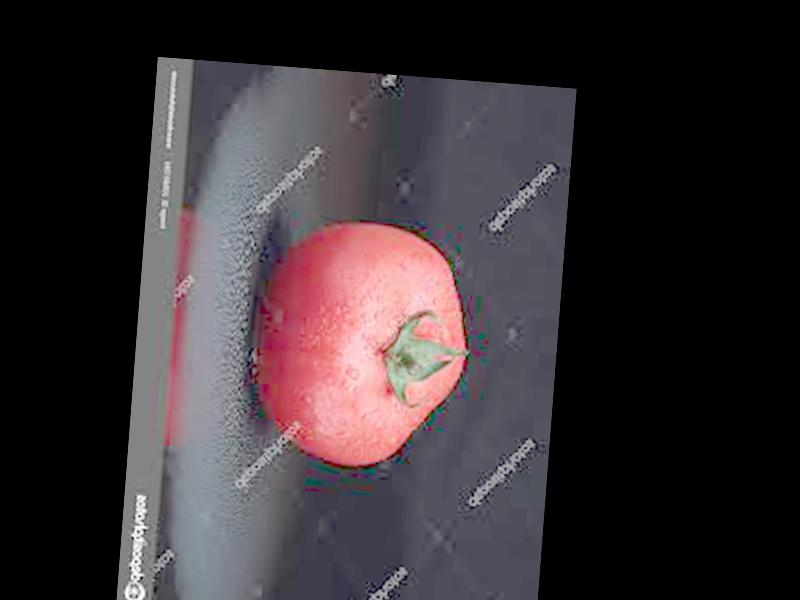Tomato: (247, 214, 476, 474)
